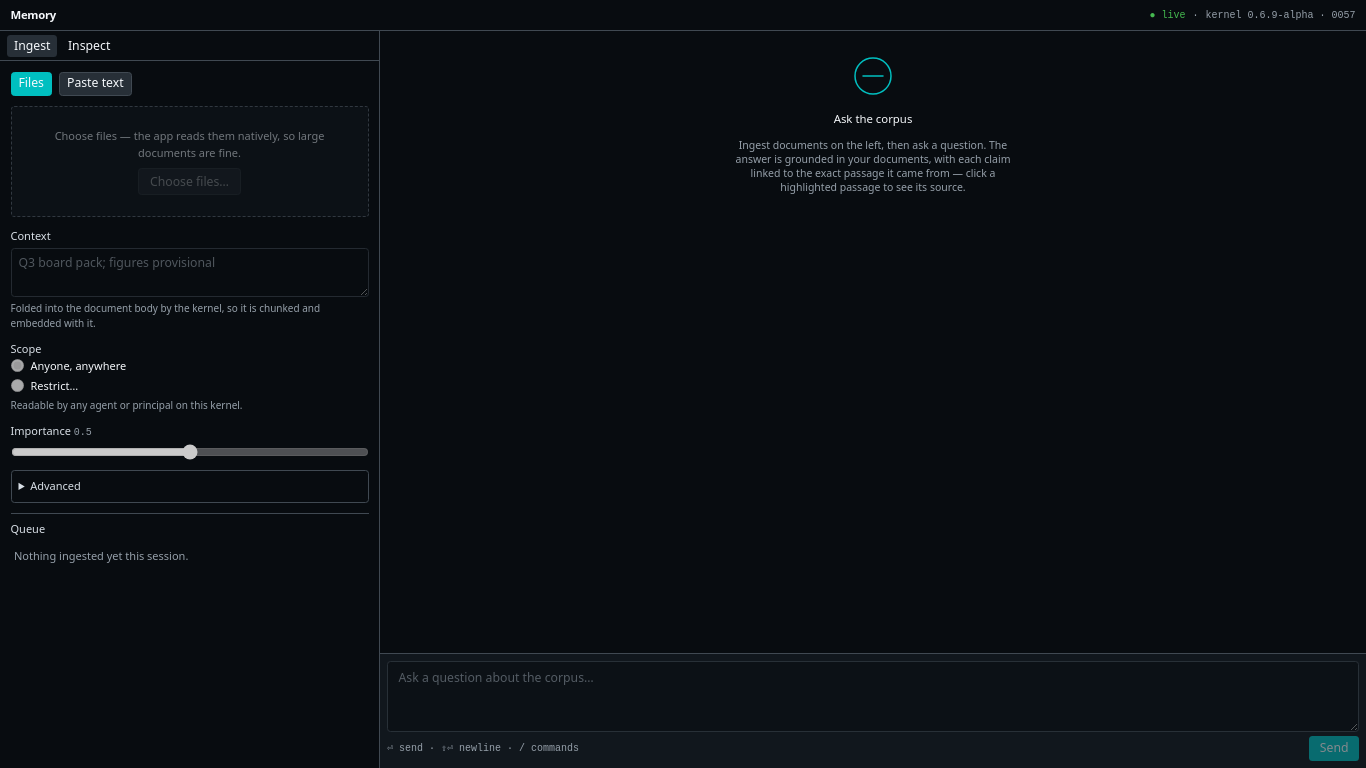
Test: MemoryPage — ingest › disables ingest for a Viewer
Click the button "Paste text" at (95, 84), box [59, 72, 132, 96]
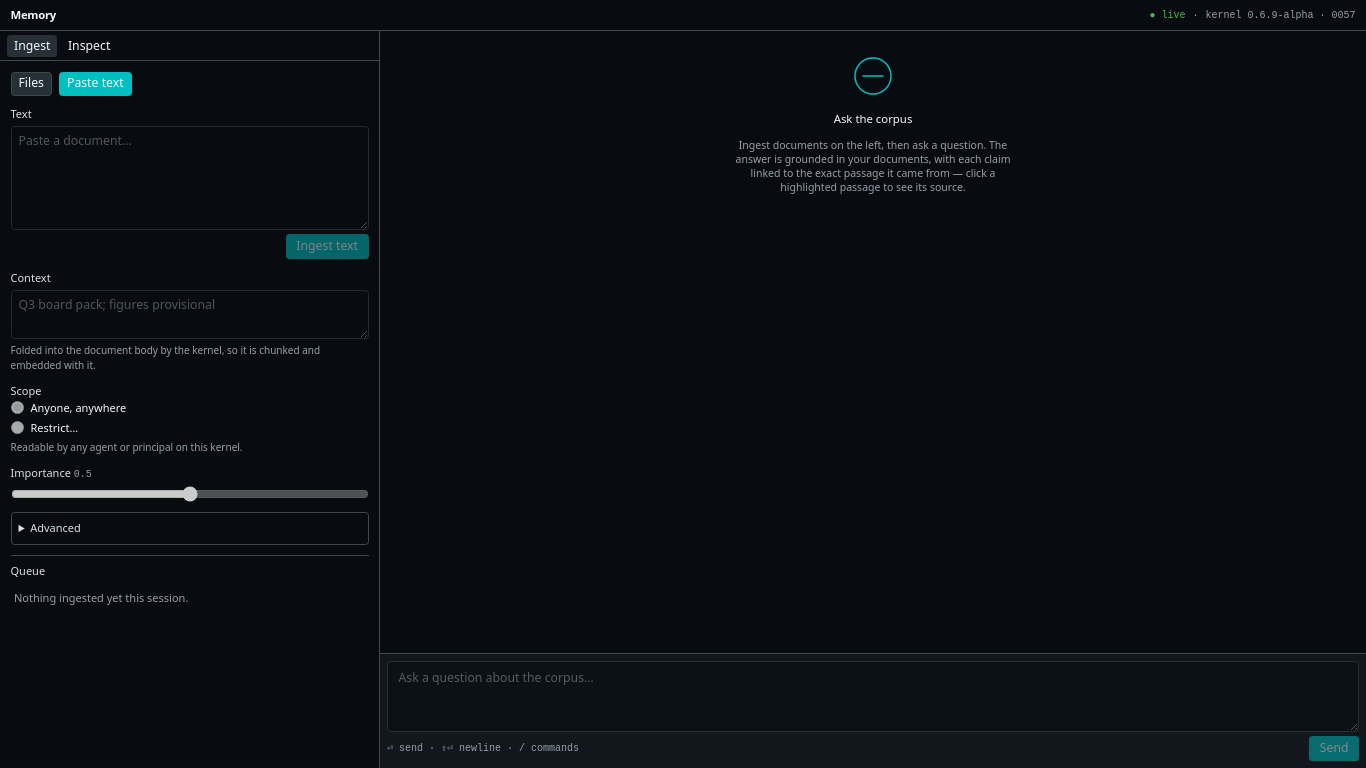
expect the text box labelled "Text" is disabled: met, box [10, 126, 368, 230]
